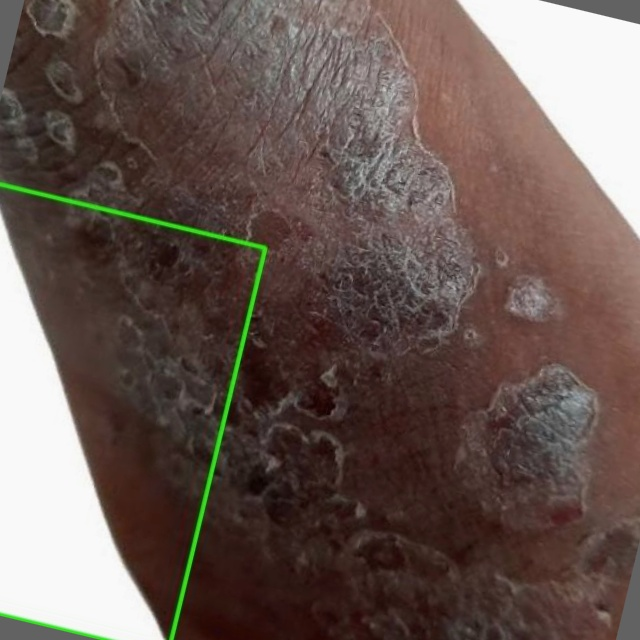Contact Dermatitis: (0, 184, 265, 639)
